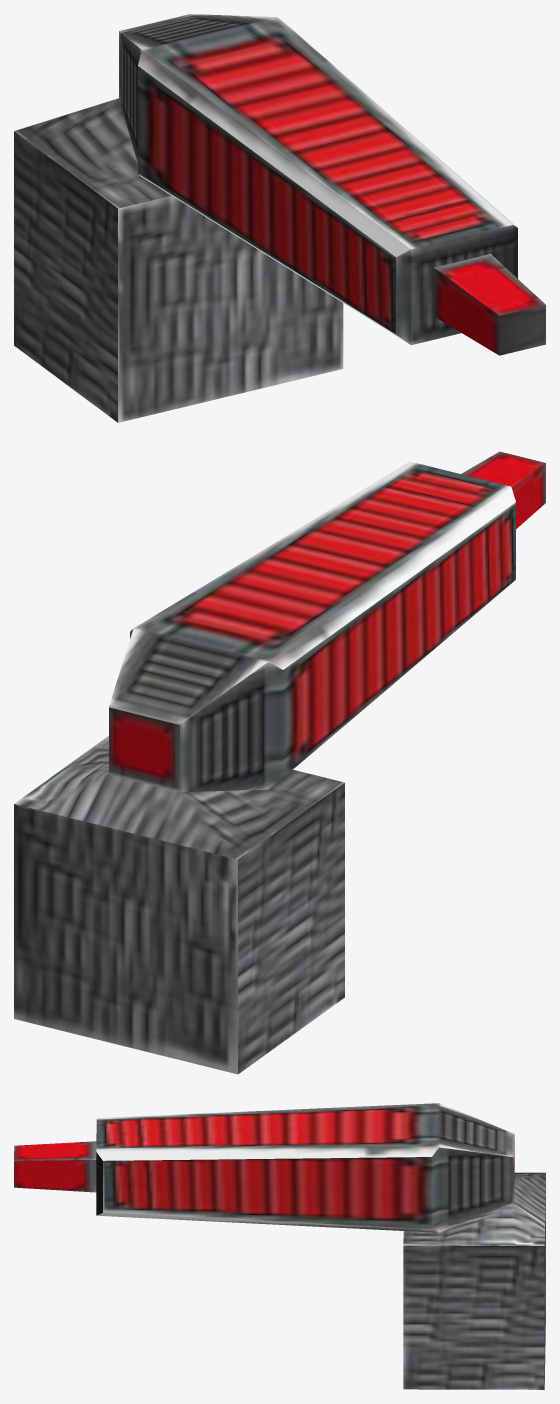
File: turret.FBX
3 renders of one model, top to bottom at view 1: azimuth 30°, elevation 25°; view 2: azimuth 150°, elevation 25°; view 3: azimuth 270°, elevation 25°, orthographic. The views are drawn at different scales.
Visible parts, largest first — view 1: Box02; view 2: Box02; view 3: Box02.
Boxes of the visible parts, left/top/right/bottom form: Box02: left=14, top=14, right=545, bottom=422; Box02: left=14, top=451, right=545, bottom=1074; Box02: left=14, top=1103, right=545, bottom=1389.
Size of the model in its own units: 24.71 by 35.76 by 75.19.
Materials: 1 (1 with a texture image).
